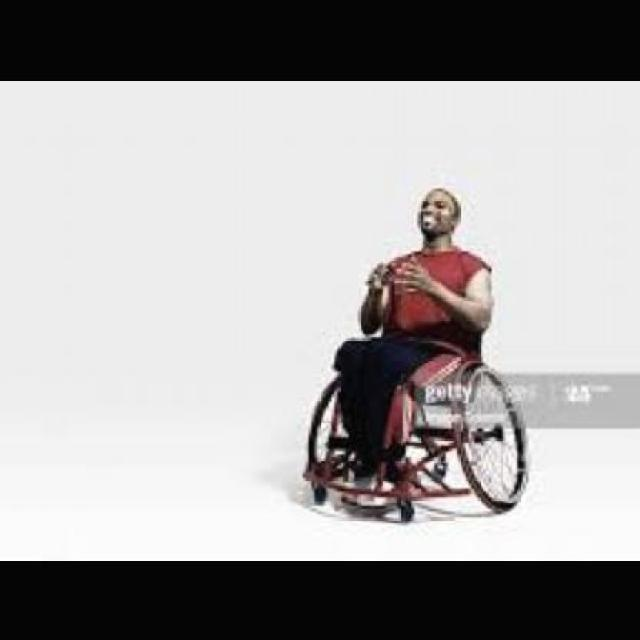wheelchairs: (318, 269, 527, 536)
